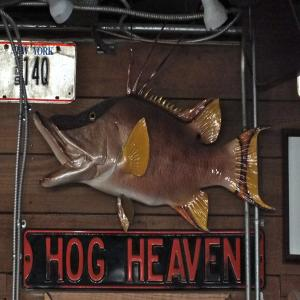Vehicle-registration-plate: (1, 41, 78, 103)
